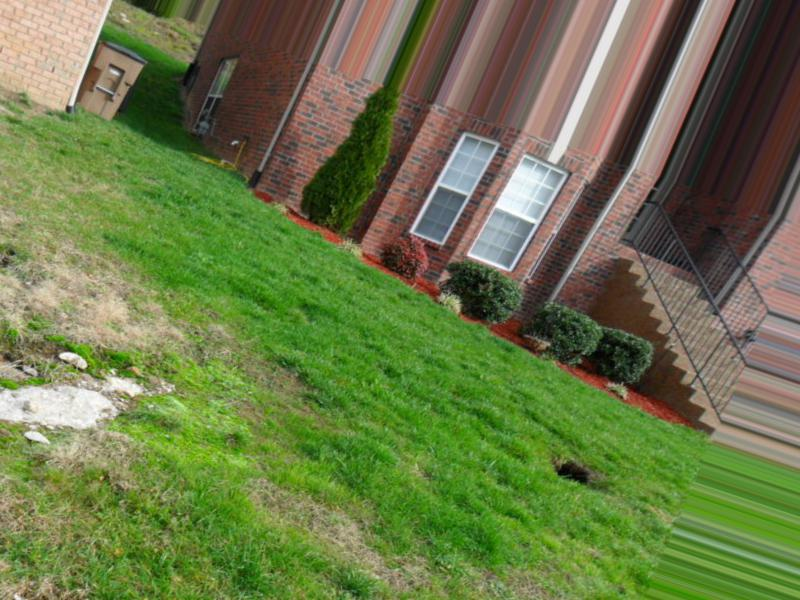patch: (13, 240, 165, 358), (241, 458, 350, 557), (42, 359, 117, 444), (28, 451, 77, 546)
